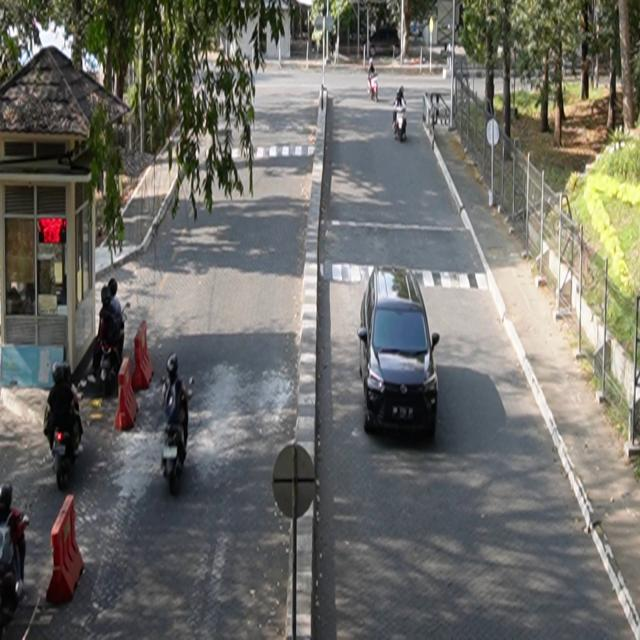car: (358, 266, 441, 439)
